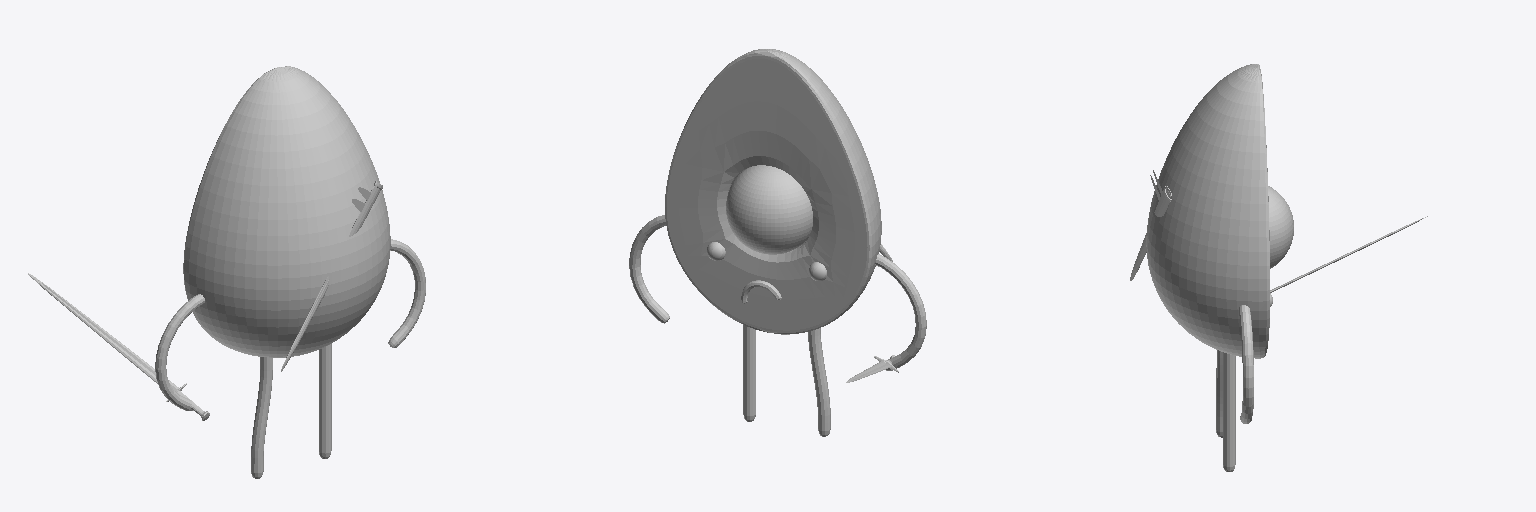
File: Cute_Cartoon_Character.obj
The picture shows the model from 3 angles: view 1: azimuth 30°, elevation 25°; view 2: azimuth 150°, elevation 25°; view 3: azimuth 270°, elevation 25°; orthographic projection.
Parts seen in each view (by area): view 1: Sphere_Sphere.001, Cylinder.001, arming_sword_2_Cube.003, arming_sword_2_scabbard_Cube.014; view 2: Sphere_Sphere.001, Sphere.001_Sphere.002, Cylinder.001; view 3: Sphere_Sphere.001, Cylinder.001, Sphere.001_Sphere.002, arming_sword_2_scabbard_Cube.014.
Part boxes in pixels (x1,y1,x2,y2): Sphere_Sphere.001: (183, 66, 390, 357); Cylinder.001: (155, 239, 425, 478); arming_sword_2_Cube.003: (28, 273, 209, 420); arming_sword_2_scabbard_Cube.014: (281, 181, 382, 371); Sphere_Sphere.001: (665, 49, 881, 334); Sphere.001_Sphere.002: (726, 165, 812, 254); Cylinder.001: (629, 215, 926, 436); Sphere_Sphere.001: (1146, 64, 1269, 358); Cylinder.001: (1216, 305, 1253, 471); Sphere.001_Sphere.002: (1268, 186, 1293, 268); arming_sword_2_scabbard_Cube.014: (1130, 170, 1171, 280).
Bounding box in the file's own units: 3.05 × 3.68 × 2.58.